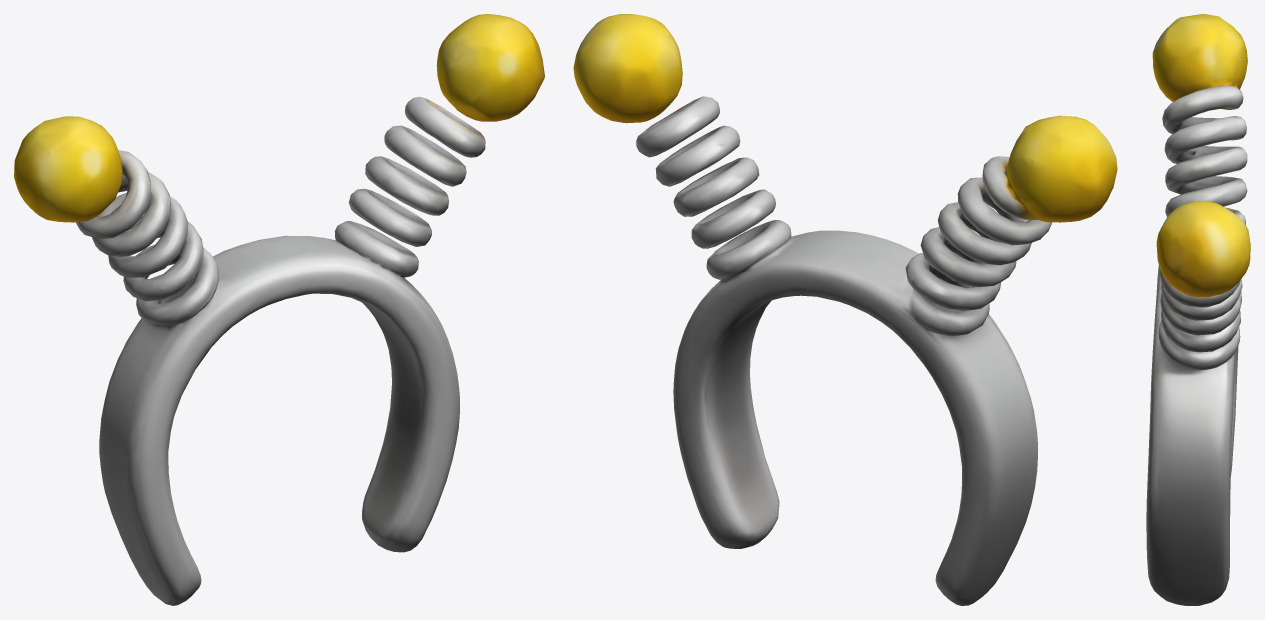
Rendered from cs-robot-antenna.glb.
3 renders of one model, left to right at view 1: azimuth 30°, elevation 25°; view 2: azimuth 150°, elevation 25°; view 3: azimuth 270°, elevation 25°, orthographic. The views are drawn at different scales.
Visible parts, largest first — view 1: tripo_node_b7690f7a-ba4f-4742-bcae-7be322f3b932; view 2: tripo_node_b7690f7a-ba4f-4742-bcae-7be322f3b932; view 3: tripo_node_b7690f7a-ba4f-4742-bcae-7be322f3b932.
Part boxes in pixels (x1=…): tripo_node_b7690f7a-ba4f-4742-bcae-7be322f3b932: x1=14, y1=14, x2=544, y2=605; tripo_node_b7690f7a-ba4f-4742-bcae-7be322f3b932: x1=573, y1=14, x2=1117, y2=605; tripo_node_b7690f7a-ba4f-4742-bcae-7be322f3b932: x1=1146, y1=14, x2=1250, y2=605.
Bounding box in the file's own units: 1 × 0.9226 × 0.1952.
1 material, 1 textured.
